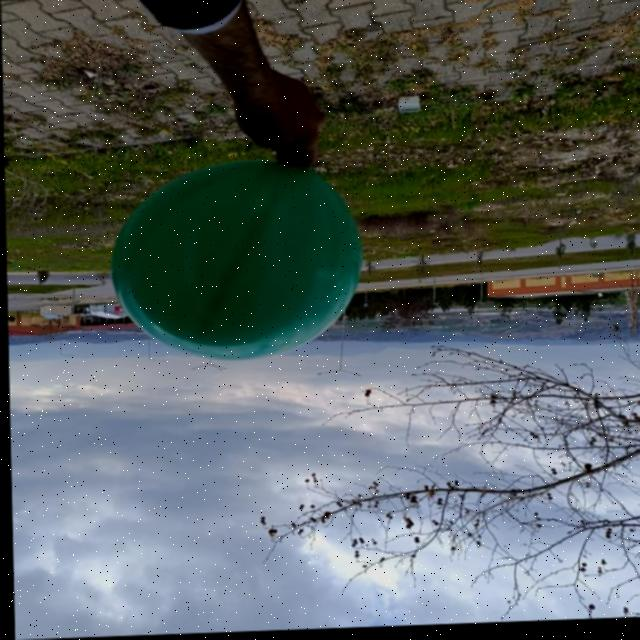balloon: (106, 158, 361, 366)
